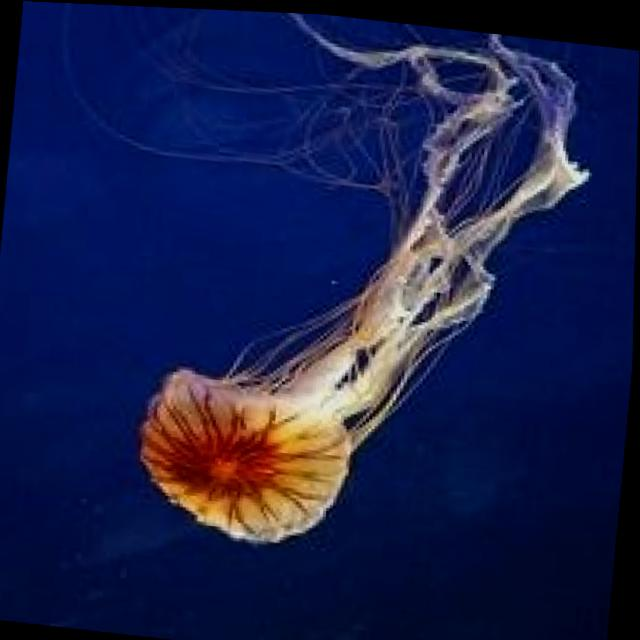Box-jellyfish: (12, 1, 601, 573)
